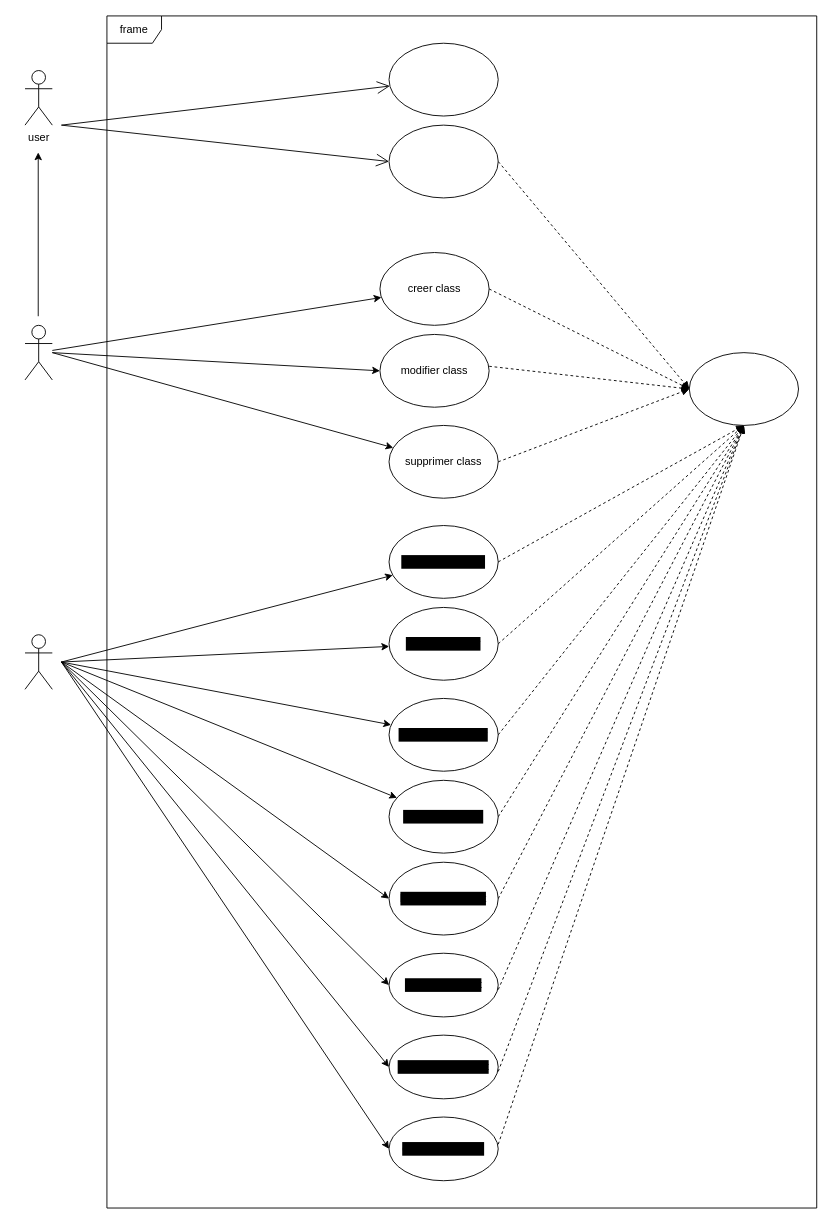
The diagram is 833 pixels wide and 1224 high, and some of its shapes have lost their labels. The shapes that lost their labels are listed below. From the top down, each one's centre as x and y in pixels, then its label:
At (443,79): "surf the website".
At (443,161): "consulter la classe.".
At (38,352): "formateur".
At (743,388): "login/register".
At (38,661): "admin".
